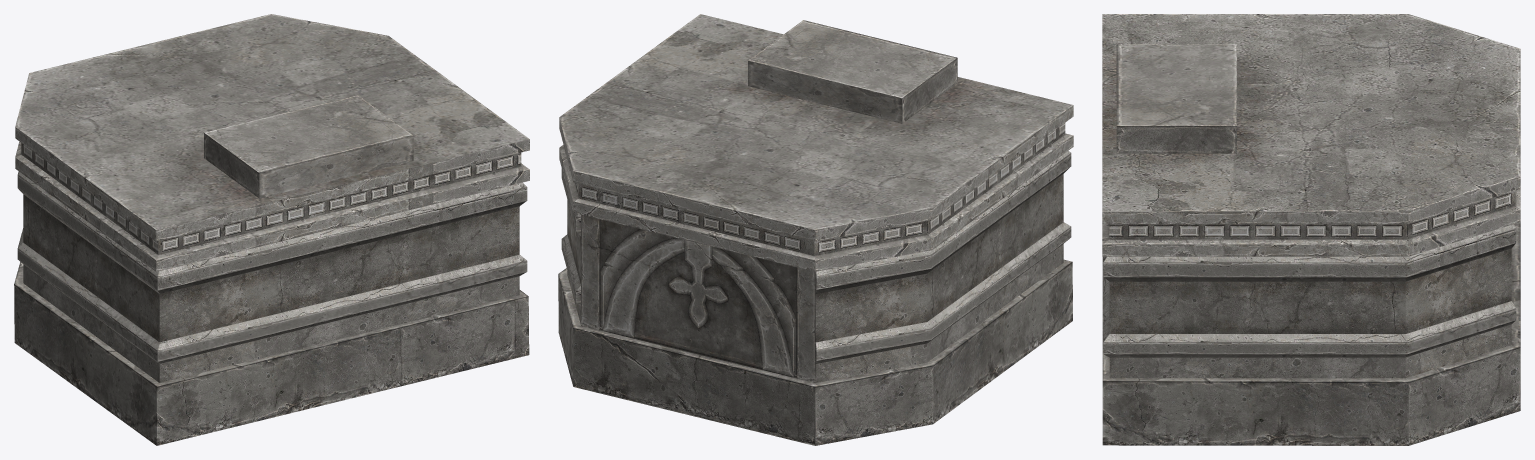
Rendered from bg_lut_lucastle_churchunderprop06_sm_phs.FBX.
3 views of the same model, side by side, from view 1: azimuth 30°, elevation 25°; view 2: azimuth 150°, elevation 25°; view 3: azimuth 270°, elevation 25° (orthographic). The views are drawn at different scales.
Visible parts, largest first — view 1: bg_lut_lucastle_churchunderprop06_sm_phs; view 2: bg_lut_lucastle_churchunderprop06_sm_phs; view 3: bg_lut_lucastle_churchunderprop06_sm_phs.
Part boxes in pixels (bbox=[...]): bg_lut_lucastle_churchunderprop06_sm_phs: bbox=[14, 14, 529, 445]; bg_lut_lucastle_churchunderprop06_sm_phs: bbox=[558, 14, 1073, 445]; bg_lut_lucastle_churchunderprop06_sm_phs: bbox=[1102, 14, 1520, 445].
Bounding box in the file's own units: 166 × 102 × 148.
